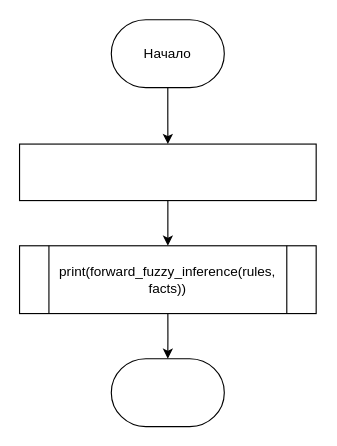
Image size: 337x446. Some labels were removed from this diagram. The shapes that lost their labels are listed below. From the top down, each one's centre as x and y in pixels, then its label:
At point 167,172: "facts, rules = read_knowledge_base(filename)".
At point 167,392: "Конец".
